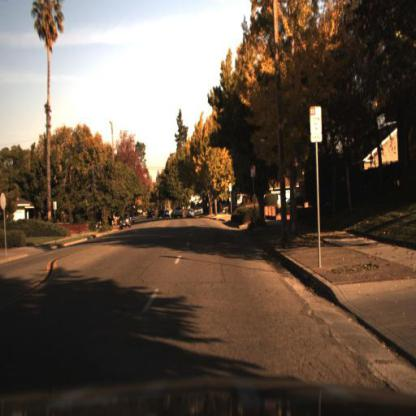car: (117, 209, 133, 232), (120, 213, 133, 234), (174, 205, 186, 221)
